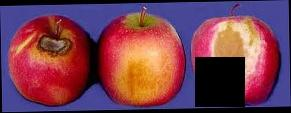red apple: (97, 10, 186, 107)
rotten apple: (188, 9, 283, 106), (8, 14, 92, 105)
